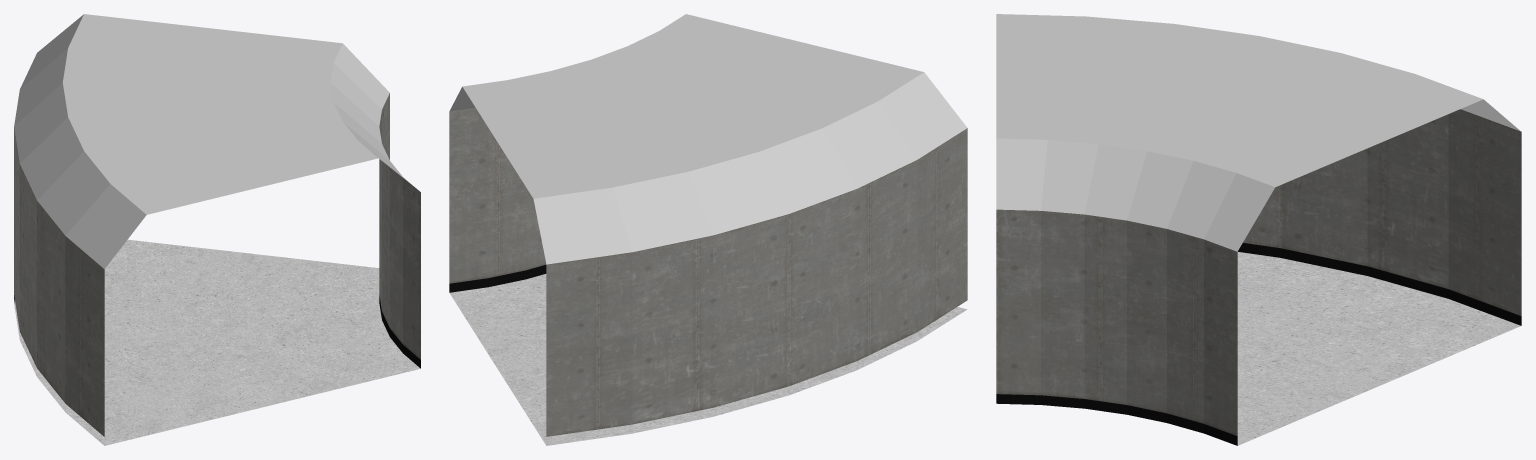
Rendered from GC Angle.fbx.
3 renders of one model, left to right at view 1: azimuth 30°, elevation 25°; view 2: azimuth 150°, elevation 25°; view 3: azimuth 270°, elevation 25°, orthographic. The views are drawn at different scales.
Visible parts, largest first — view 1: GC Angle Applied; view 2: GC Angle Applied; view 3: GC Angle Applied.
Part boxes in pixels (bbox=[...]): GC Angle Applied: bbox=[14, 14, 420, 445]; GC Angle Applied: bbox=[449, 14, 967, 445]; GC Angle Applied: bbox=[996, 14, 1521, 445].
Size of the model in its own units: 1873 by 1000 by 1961.
